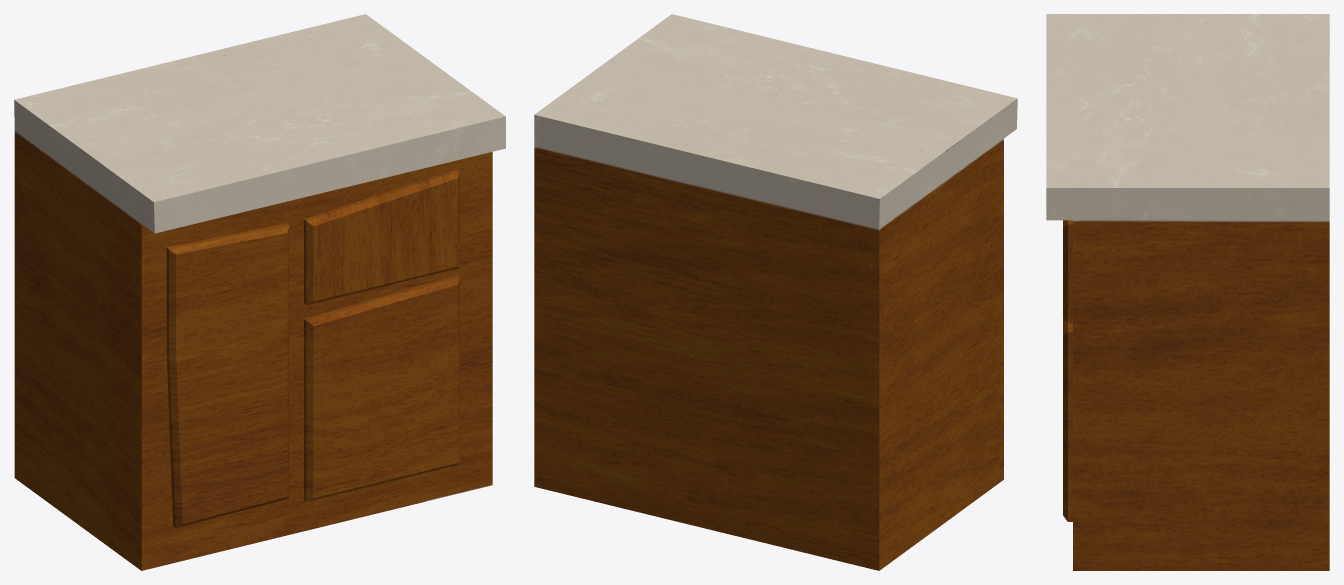
Rendered from Counter6.fbx.
3 renders of one model, left to right at view 1: azimuth 30°, elevation 25°; view 2: azimuth 150°, elevation 25°; view 3: azimuth 270°, elevation 25°, orthographic. The views are drawn at different scales.
Visible parts, largest first — view 1: Counter6:pCube33countertop; view 2: Counter6:pCube33countertop; view 3: Counter6:pCube33countertop.
Part boxes in pixels (x1=…): Counter6:pCube33countertop: x1=14, y1=14, x2=505, y2=570; Counter6:pCube33countertop: x1=534, y1=14, x2=1017, y2=570; Counter6:pCube33countertop: x1=1046, y1=14, x2=1329, y2=570.
Bounding box in the file's own units: 8.01 × 8.23 × 5.52.
